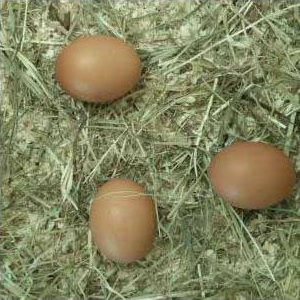egg: (208, 141, 296, 212), (56, 34, 142, 104), (89, 178, 157, 264)
